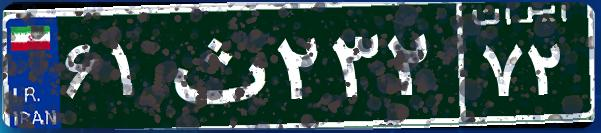1: (110, 28, 158, 105)
2: (385, 28, 445, 110), (273, 28, 330, 110), (525, 38, 570, 115)
3: (330, 28, 385, 110)
6: (57, 26, 110, 107)
7: (475, 38, 525, 113)
ث: (158, 15, 273, 115)
